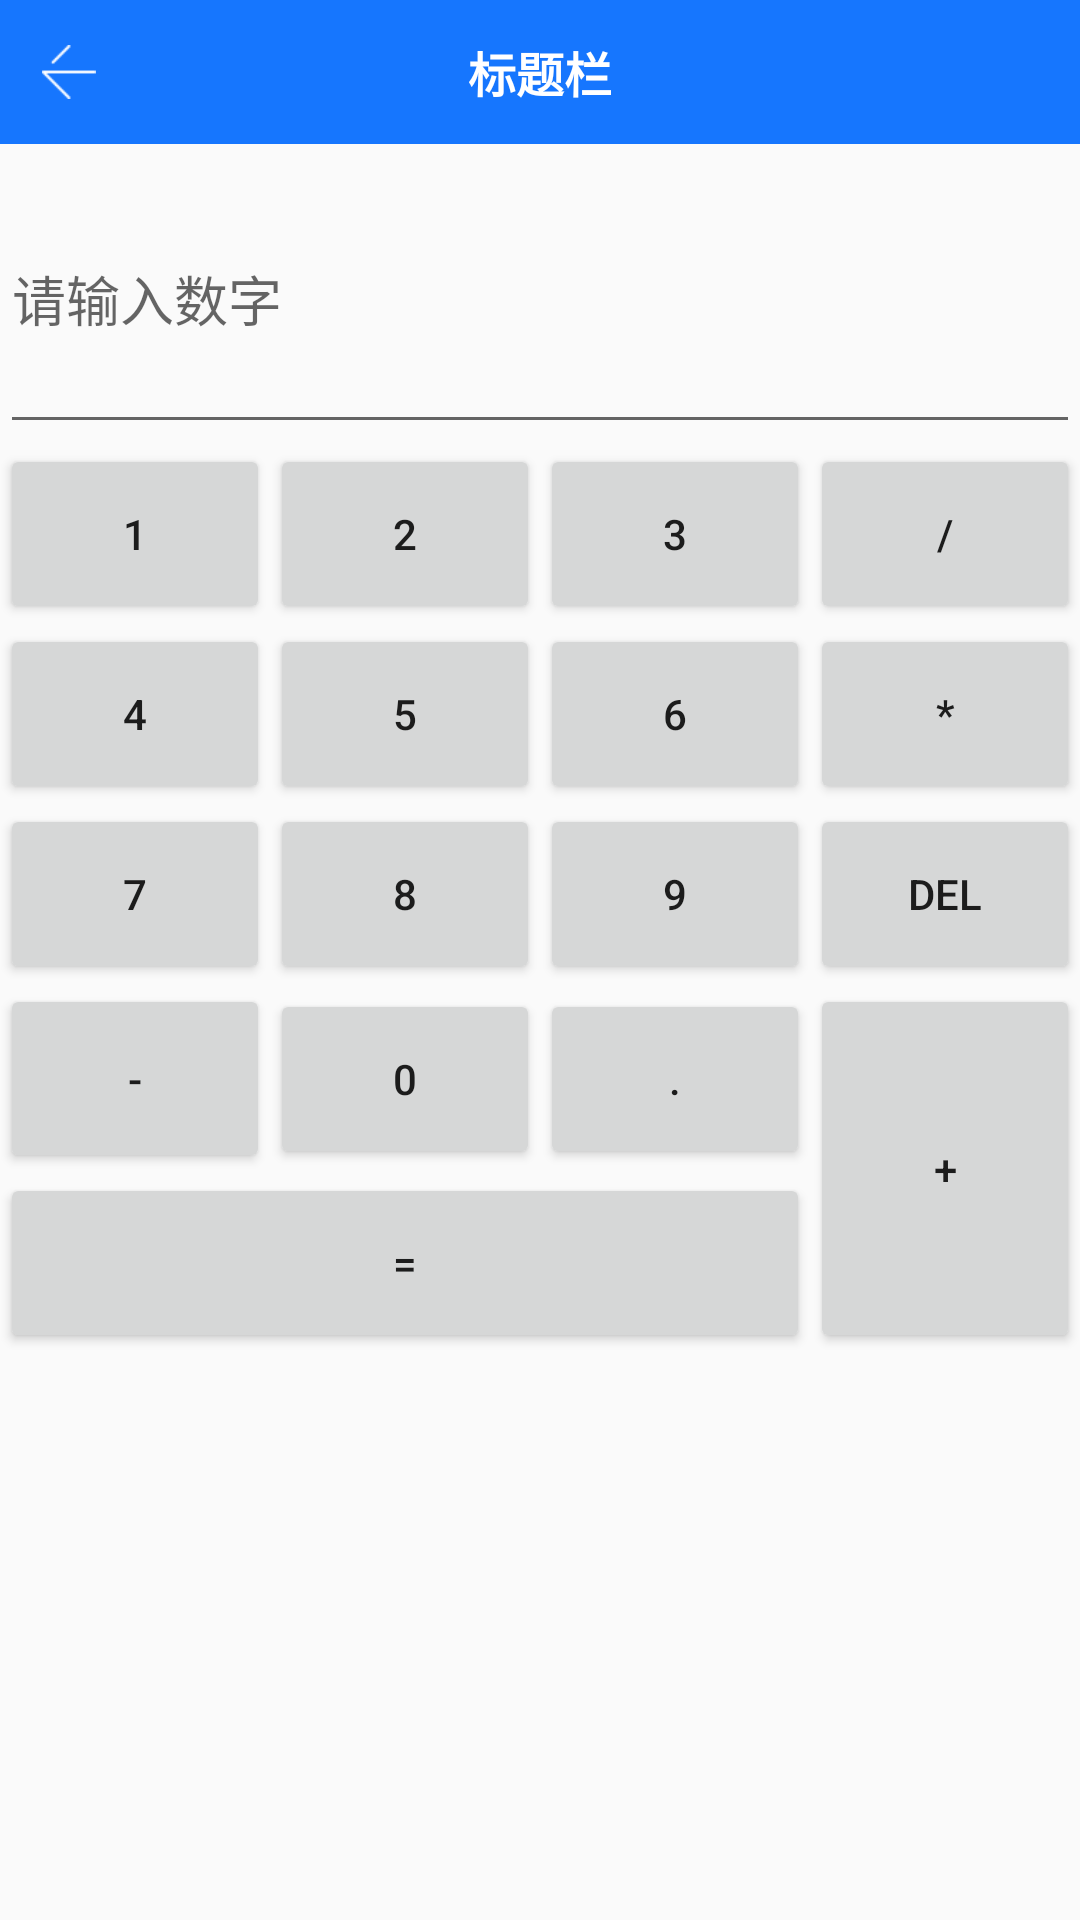

Screen size 1080w x 1920h. Icon name, then its box in pixels as (x1, y1, x2, y2):
base back: (42, 45, 96, 99)
